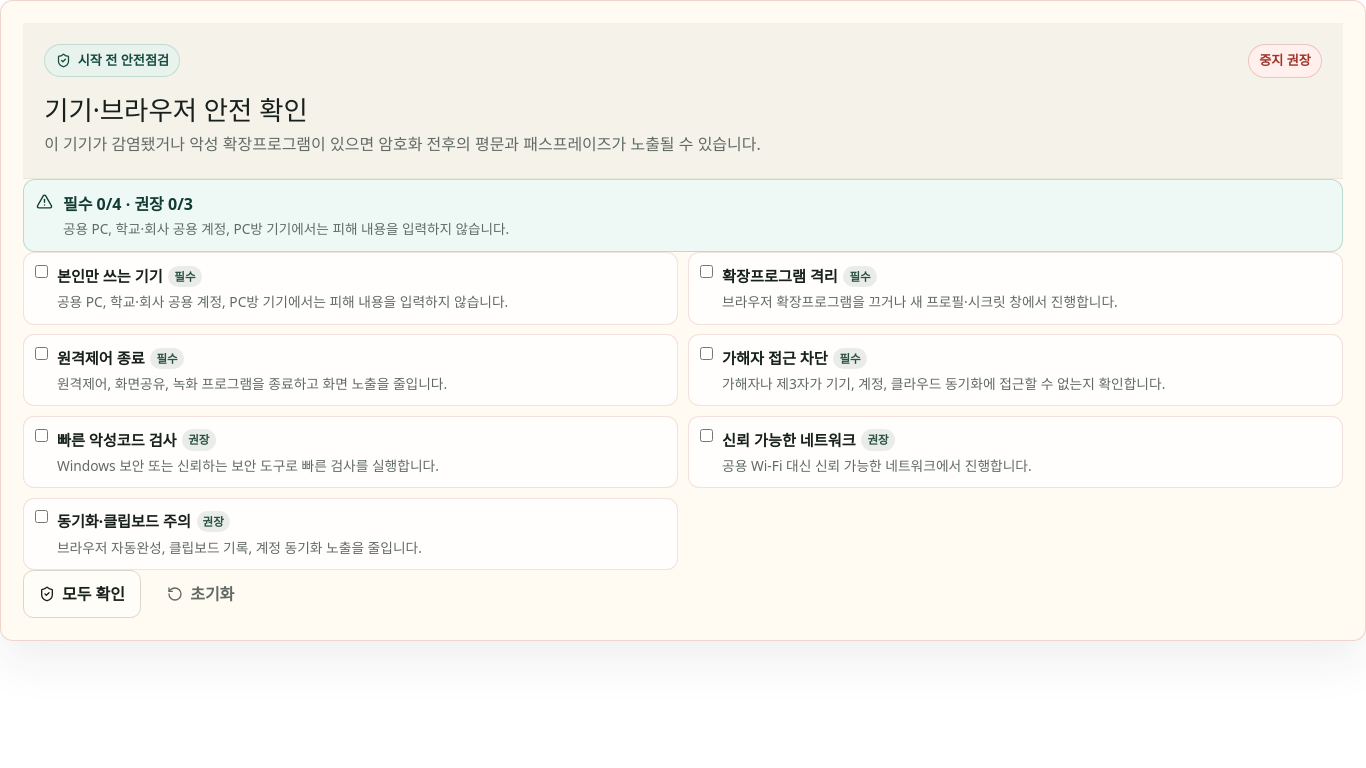
DeviceSafetyPanel › starts blocked and becomes ready after all checks are confirmed
Expected: the heading "기기·브라우저 안전 확인" is shown, [44,92,308,128]
Expected: the text "중지 권장" is shown, [1248,44,1322,78]
Step 1. Click the button "모두 확인" → (82, 594), box [23,570,141,618]
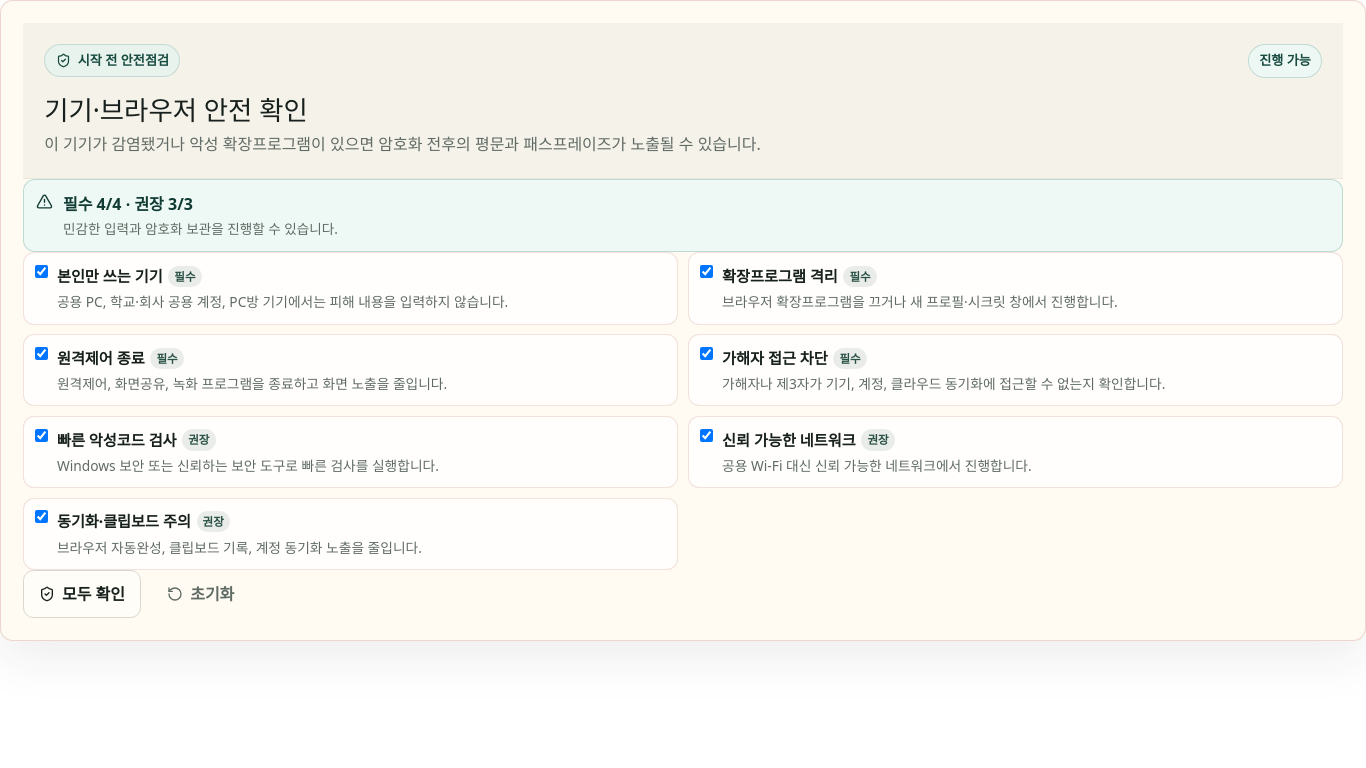
Expected: the text "진행 가능" is shown, [1248,44,1322,78]
Expected: the text "필수 4/4 · 권장 3/3" is shown, [63,193,193,215]
Step 2. Click the button "초기화" → (201, 594), box [151,570,250,618]
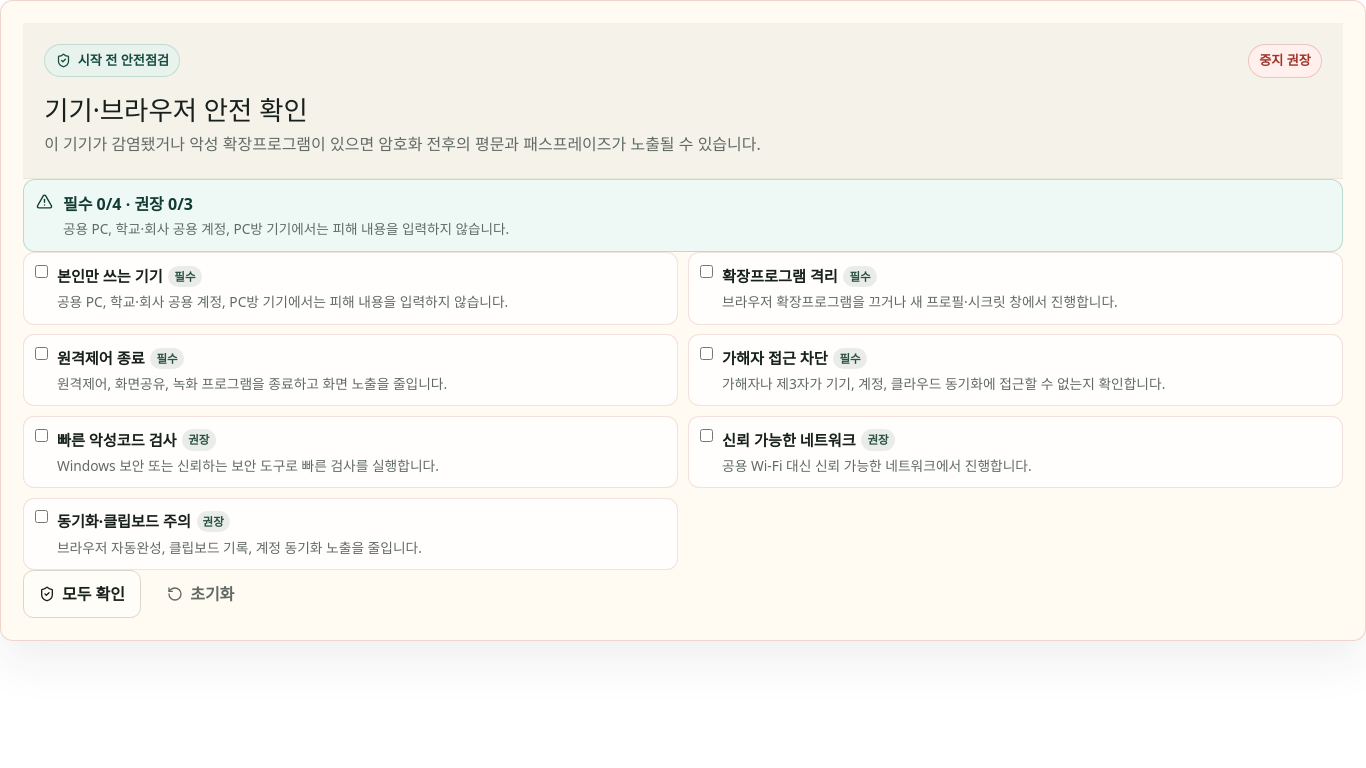
Expected: the text "중지 권장" is shown, [1248,44,1322,78]
